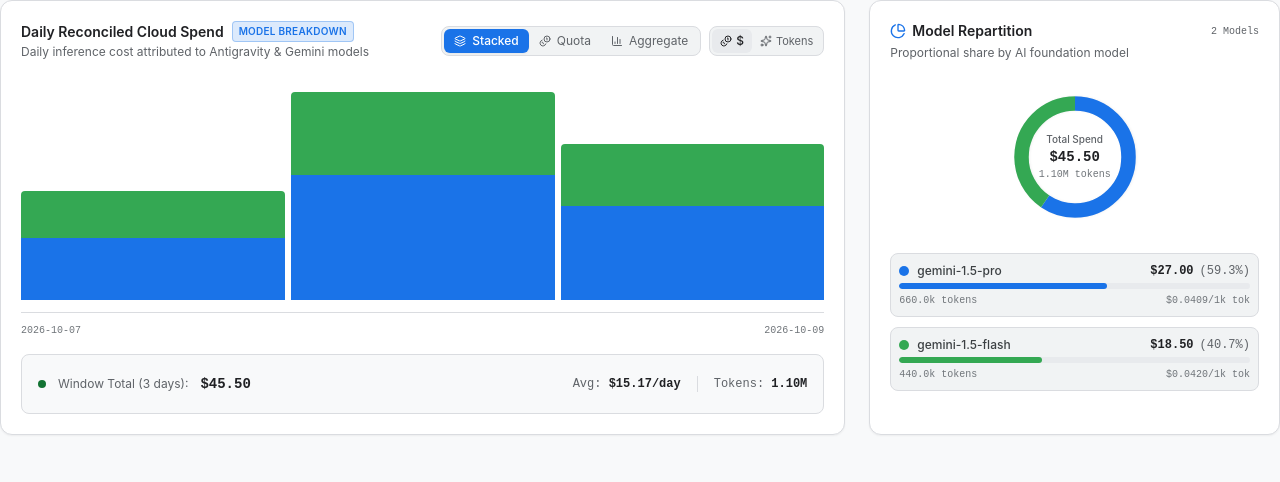
Test: CostChart Component › updates dynamic summary and day repartition pills when hovering on a trend bar
The image size is (1280, 482).
Note: Hover on second day (2026-10-08)
Hover over the element with test id "trend-bar" below "Daily Reconciled Cloud Spend": (423,196) 291,92 -> 555,300
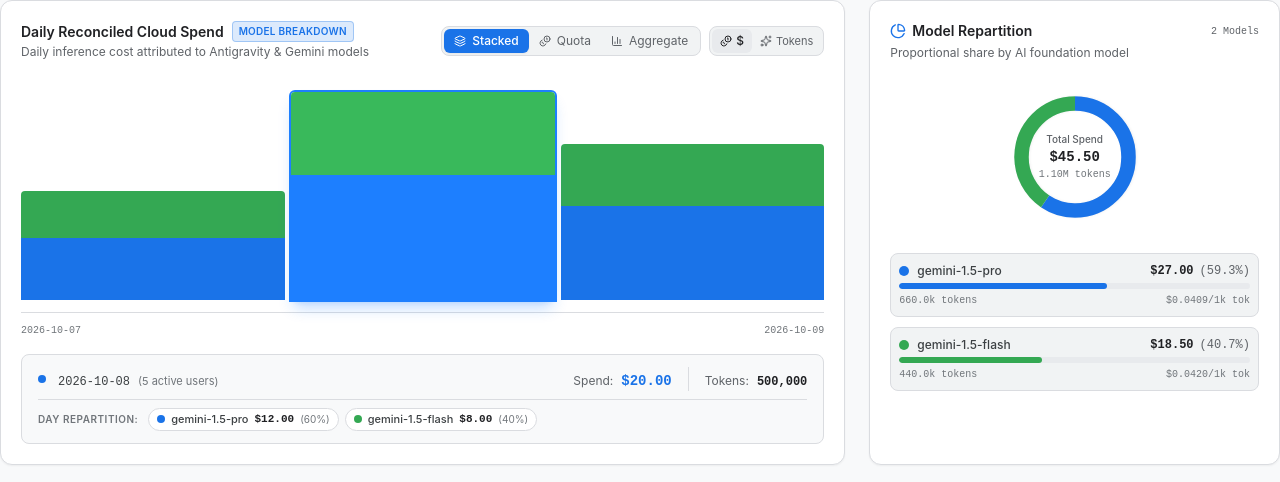
Expected: the text "(5 active users)" is shown, 138,374 -> 218,388
Expected: the text "$20.00" is shown, 621,373 -> 672,389
Expected: the text "500,000" is shown, 757,375 -> 807,389
Note: Mouse leave restores window total
Move the pointer off the element with test id "trend-bar" below "Daily Reconciled Cloud Spend", box 291,92 -> 555,300
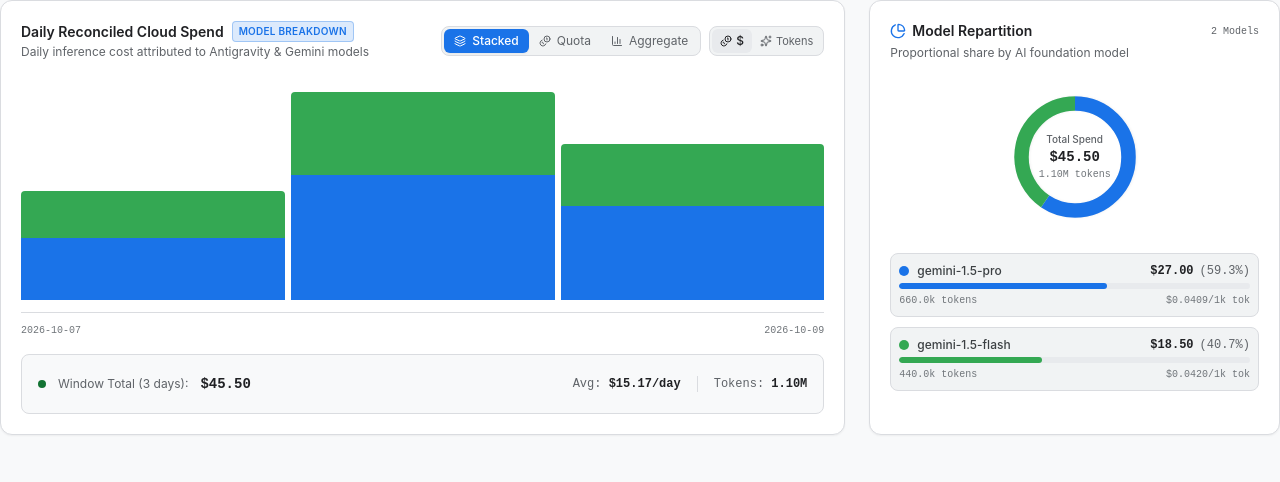
Expected: the text "Window Total (3 days):" is shown, 58,376 -> 188,392
